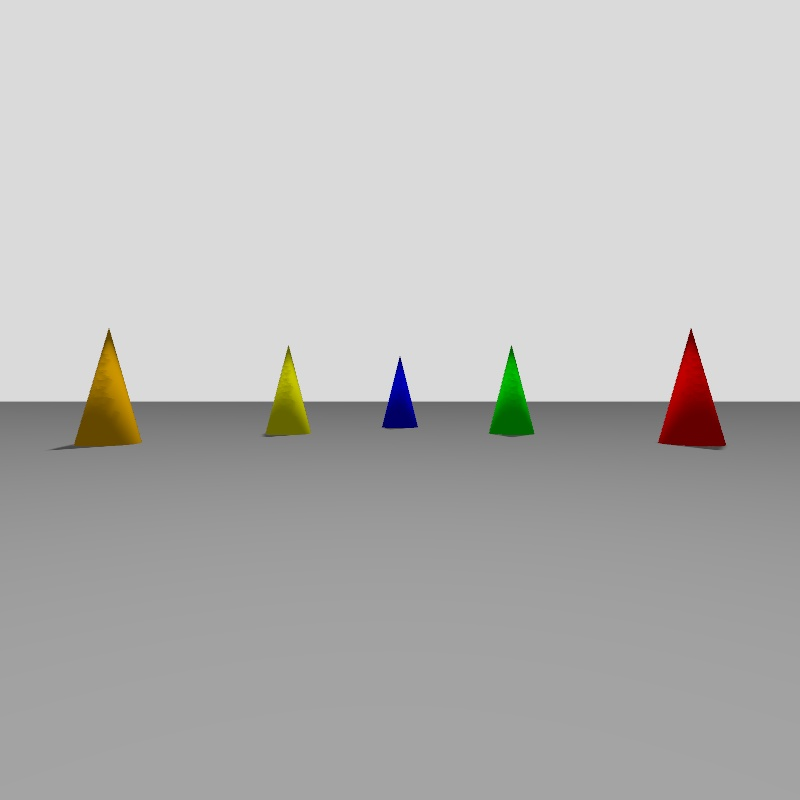Blue_cone: (382, 358, 417, 428)
Green_cone: (489, 346, 533, 436)
Orange_cone: (75, 330, 140, 445)
Red_cone: (659, 330, 725, 445)
Yellow_cone: (265, 348, 310, 435)
